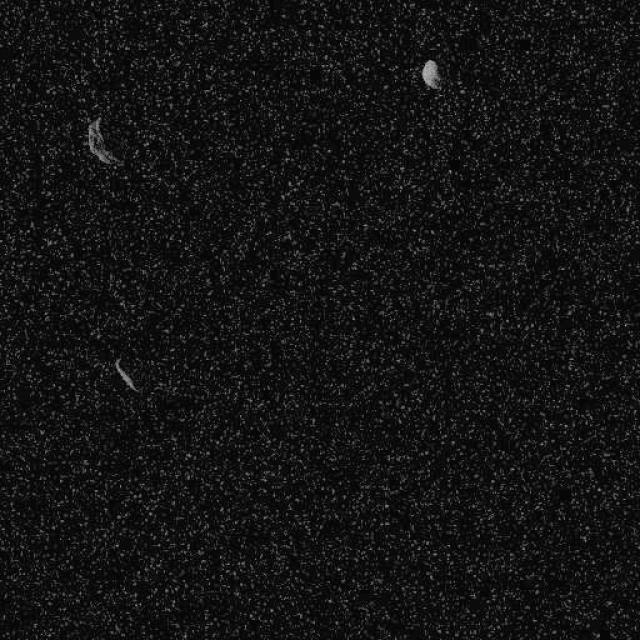D2: (85, 115, 120, 165), (112, 356, 140, 394), (420, 58, 442, 90)
